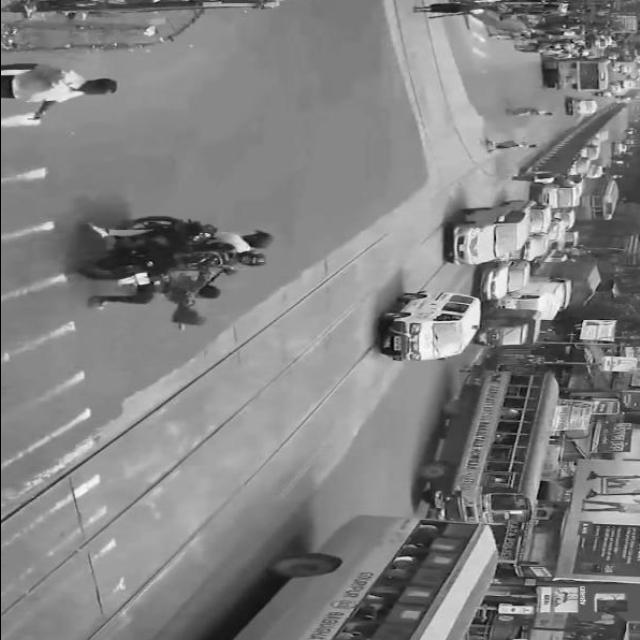accident: (74, 213, 322, 339)
